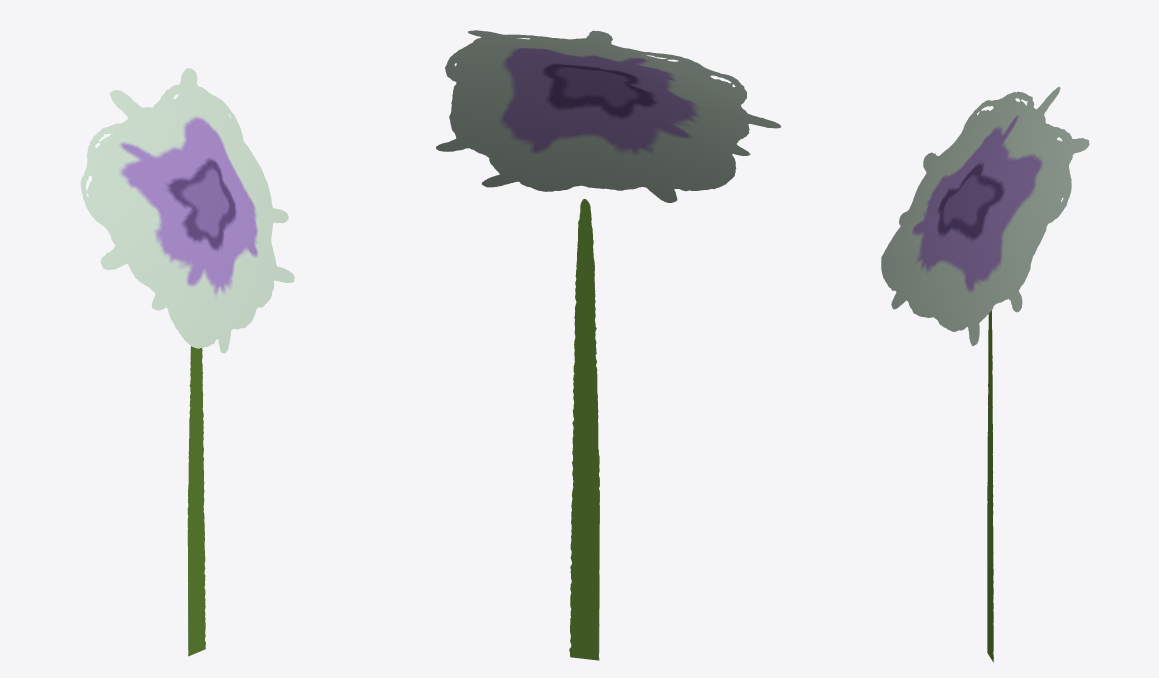
The model's file is MS_Dandelion1.fbx.
3 renders of one model, left to right at view 1: azimuth 30°, elevation 25°; view 2: azimuth 150°, elevation 25°; view 3: azimuth 270°, elevation 25°, orthographic. The views are drawn at different scales.
Parts seen in each view (by area): view 1: Dandelion1; view 2: Dandelion1; view 3: Dandelion1.
Part boxes in pixels (left/top/right/bottom): Dandelion1: left=80, top=68, right=294, bottom=656; Dandelion1: left=436, top=30, right=780, bottom=660; Dandelion1: left=881, top=87, right=1089, bottom=662.
Size of the model in its own units: 59.73 by 98.15 by 48.93.
